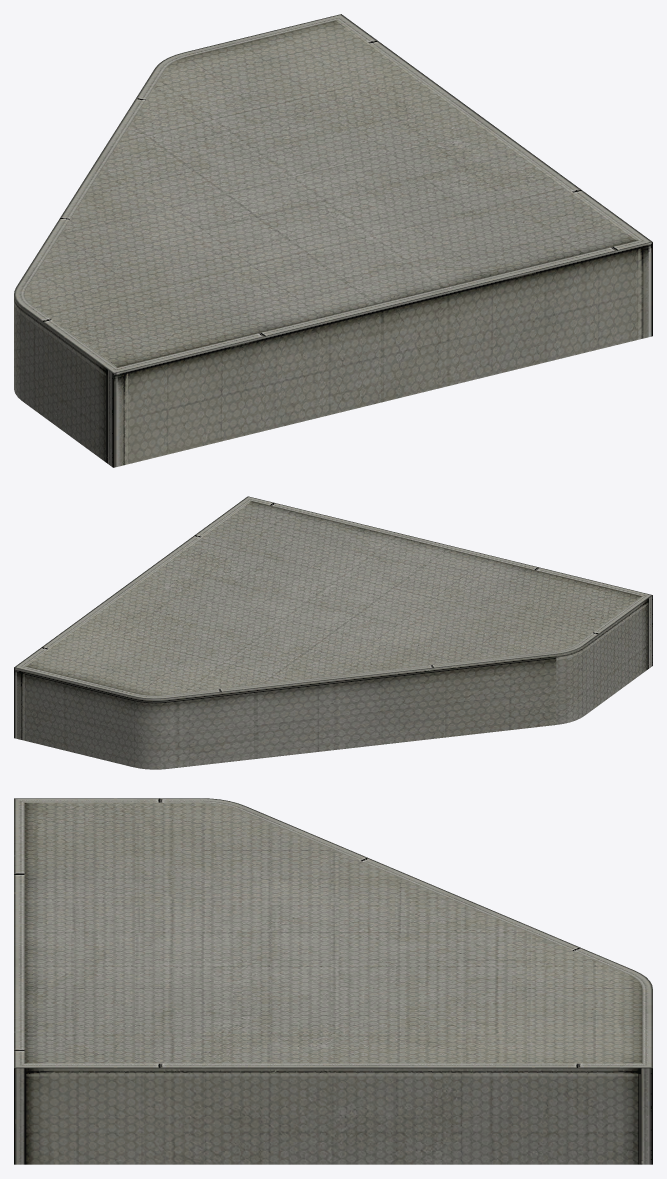
Rendered from Spctr_FloorBend_01.FBX.
3 renders of one model, top to bottom at view 1: azimuth 30°, elevation 25°; view 2: azimuth 150°, elevation 25°; view 3: azimuth 270°, elevation 25°, orthographic. The views are drawn at different scales.
Parts seen in each view (by area): view 1: Spctr_FloorBend_01; view 2: Spctr_FloorBend_01; view 3: Spctr_FloorBend_01.
Part boxes in pixels (x1,y1,x2,y2): Spctr_FloorBend_01: [14, 14, 652, 467]; Spctr_FloorBend_01: [14, 496, 652, 769]; Spctr_FloorBend_01: [14, 798, 652, 1164].
Bounding box in the file's own units: 6 × 1 × 6.
